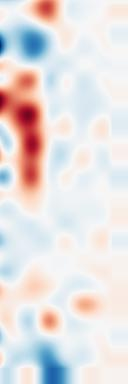filament: (0, 68, 54, 202)
